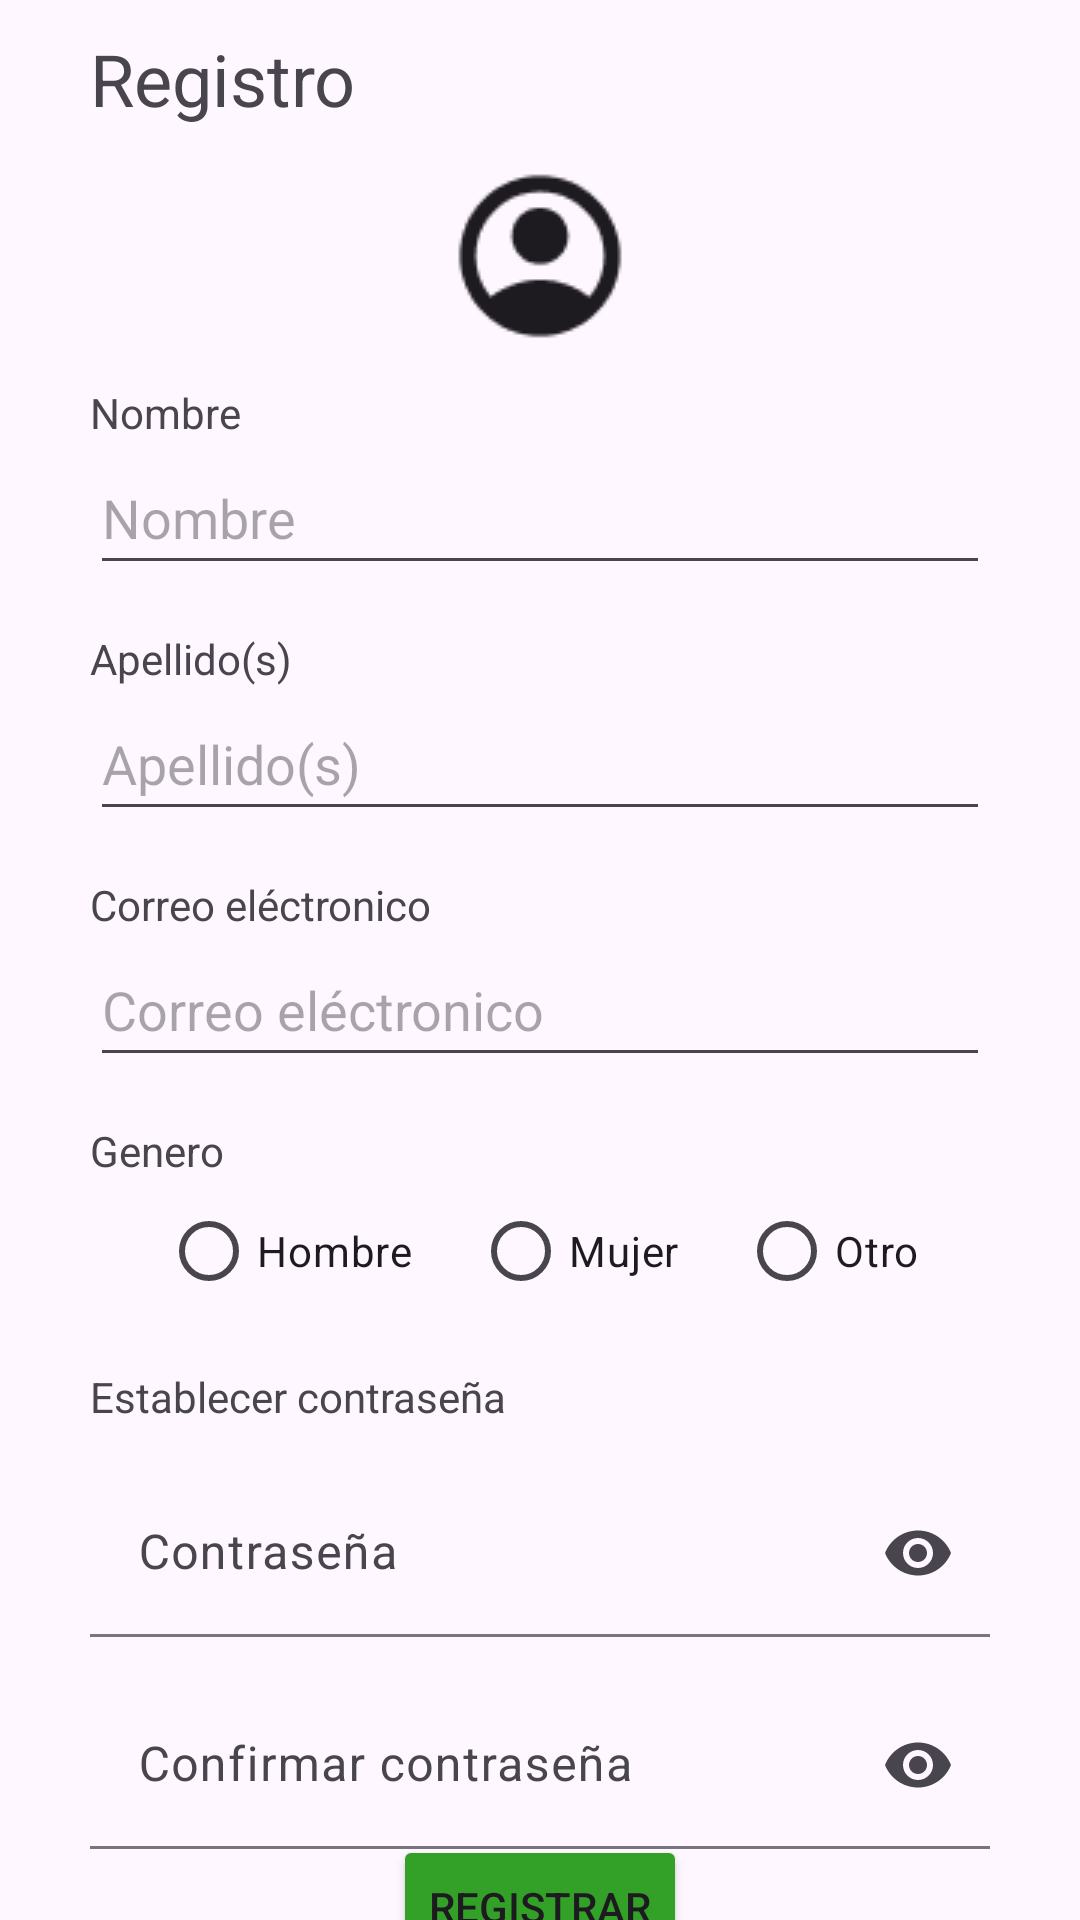

Icon click points for this 1080px×1920px phone screenshot, format point (x, y):
Icono de usuario: point (540, 256)
